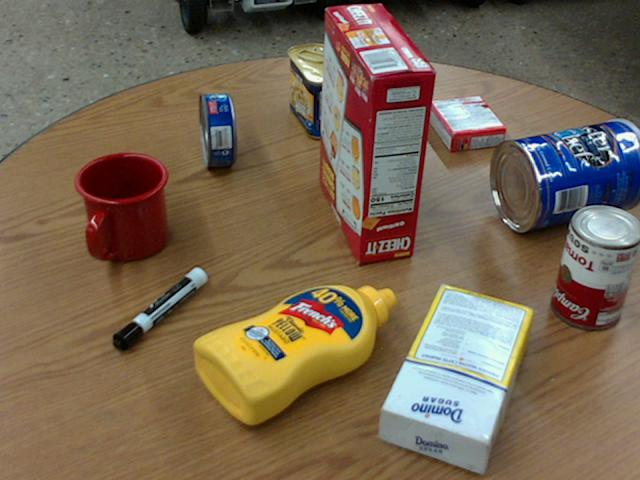cracker_box: (318, 2, 434, 262)
gelatin_box: (426, 95, 505, 151)
large_marker: (111, 266, 205, 349)
master_chef_can: (490, 118, 639, 230)
mug: (74, 153, 168, 261)
mustard_bottle: (192, 284, 395, 425)
potted_meat_can: (286, 44, 349, 138)
sugar_box: (378, 283, 534, 473)
tomato_soup_can: (551, 202, 639, 326)
tuna_fish_can: (200, 93, 234, 166)
